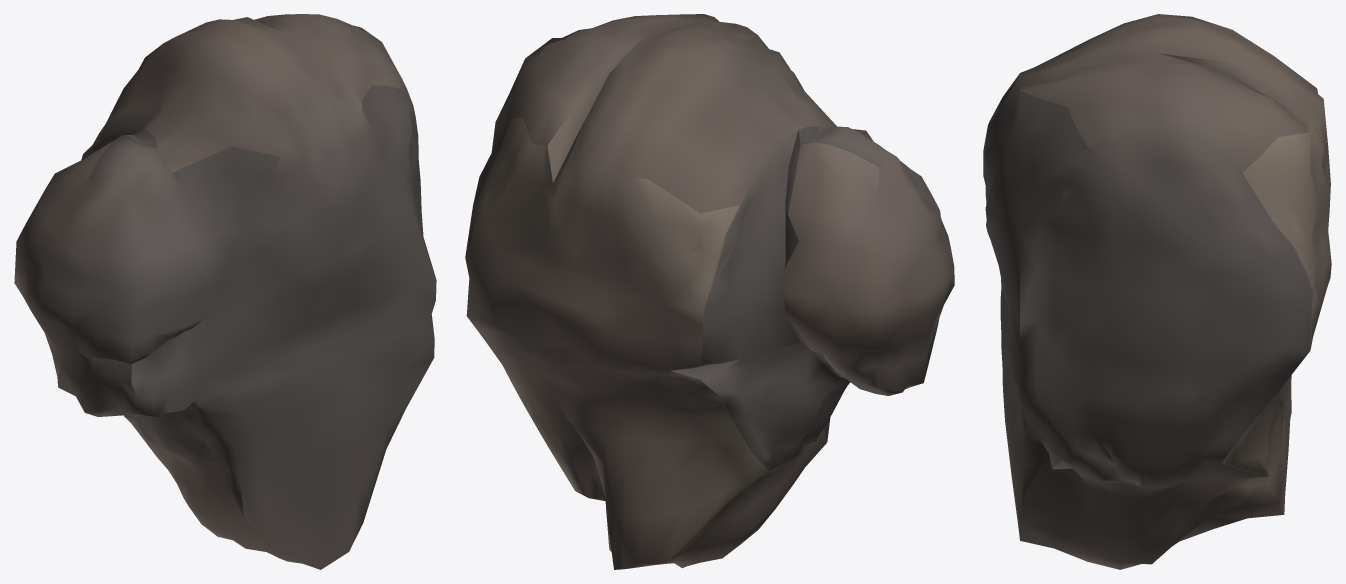
The model's file is RockHuge.007.glb.
3 views of the same model, side by side, from view 1: azimuth 30°, elevation 25°; view 2: azimuth 150°, elevation 25°; view 3: azimuth 270°, elevation 25° (orthographic). The views are drawn at different scales.
Visible parts, largest first — view 1: RockHuge.007; view 2: RockHuge.007; view 3: RockHuge.007.
Boxes of the visible parts, <box> form: RockHuge.007: <box>14,14,436,569</box>; RockHuge.007: <box>465,14,954,569</box>; RockHuge.007: <box>983,14,1331,569</box>.
Bounding box in the file's own units: 2598 × 3277 × 1936.
